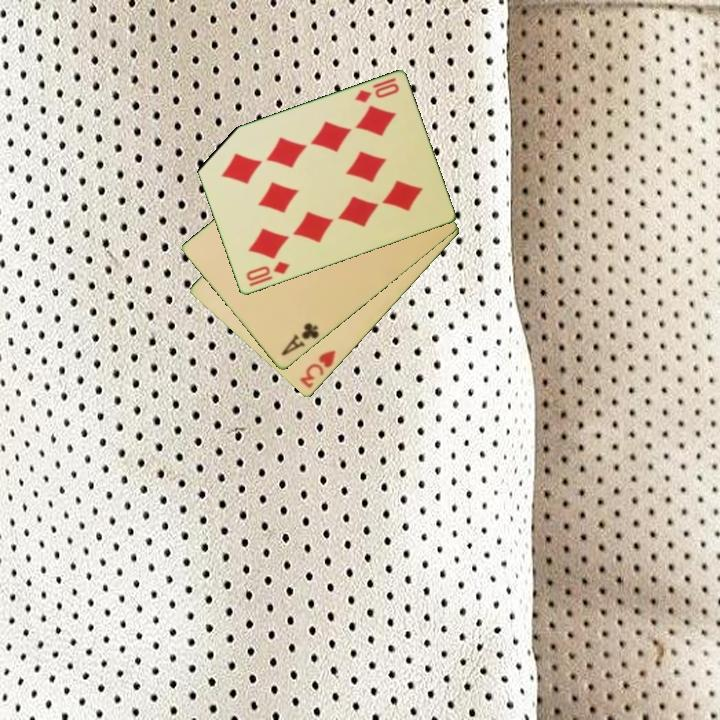10d: (351, 74, 402, 106), (242, 258, 292, 284)
3h: (296, 347, 339, 392)
Ac: (277, 319, 322, 359)
